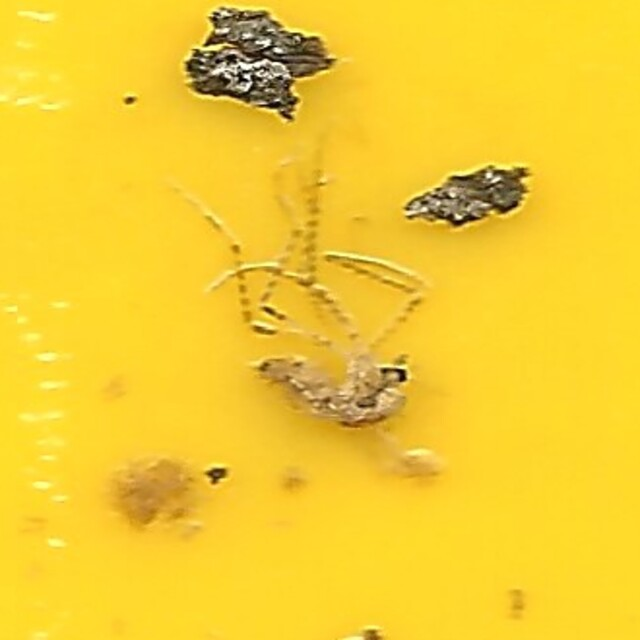Nematocera: (194, 163, 446, 477)
